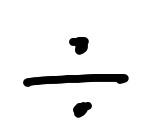div: (24, 37, 129, 119)
